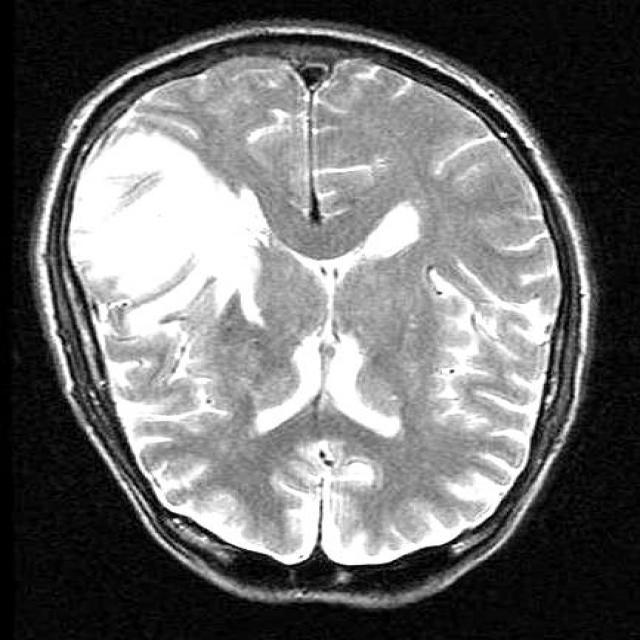tumor: (67, 102, 262, 320)
